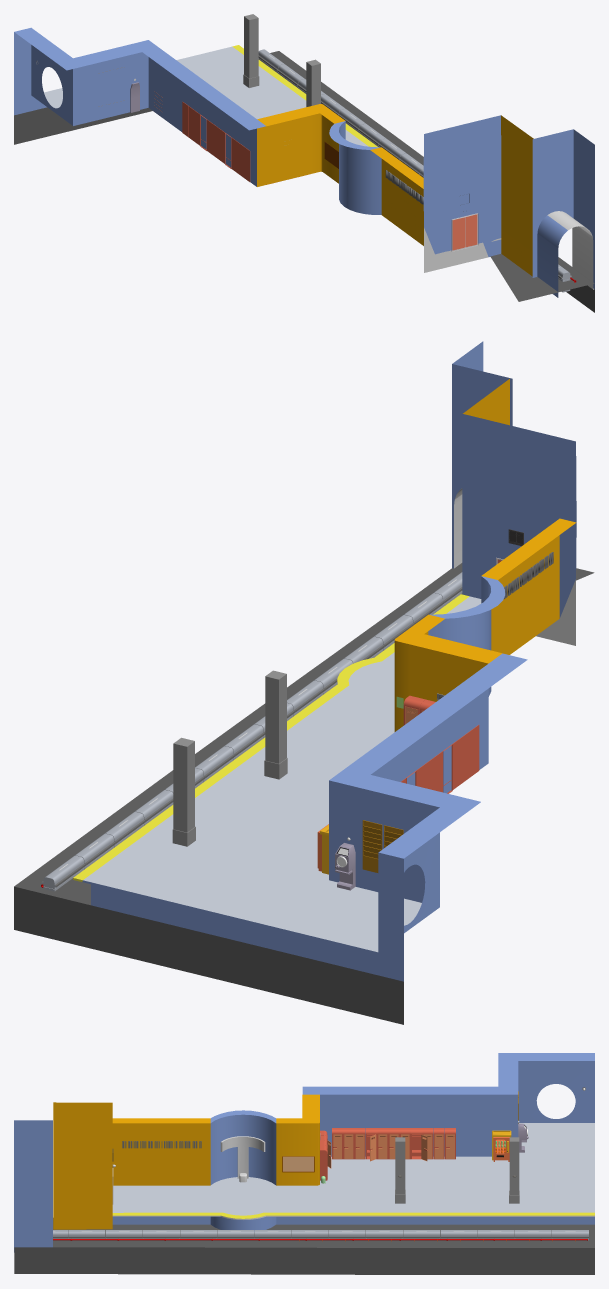
Rendered from OBSv2.5.fbx.
The picture shows the model from 3 angles, top to bottom: view 1: azimuth 30°, elevation 25°; view 2: azimuth 150°, elevation 25°; view 3: azimuth 270°, elevation 25°; orthographic projection. The views are drawn at different scales.
Parts seen in each view (by area): view 1: Cube.002, Cube.006, Cube.014, Cube.013, Cube.009, Cube; view 2: Cube.002, Cube.006, Cube.013, Cube.014, Cube.009, punchcard holder 1.001; view 3: Cube.002, Cube.006, Cube.014, Cube.009, Cube.013, Cylinder, decoration, Cube.005, Billboard, Text.001, Cube.008.
Boxes of the visible parts, x1,y1,x2,y2 form: Cube.002: (14, 27, 594, 312); Cube.006: (258, 49, 571, 292); Cube.014: (182, 101, 250, 181); Cube.013: (243, 14, 320, 106); Cube.009: (31, 45, 72, 125); Cube: (451, 213, 478, 251); Cube.002: (14, 341, 594, 1024); Cube.006: (41, 572, 462, 891); Cube.013: (172, 670, 287, 846); Cube.014: (401, 725, 479, 793); Cube.009: (404, 832, 439, 933); punchcard holder 1.001: (362, 820, 382, 872); Cube.002: (14, 1053, 594, 1274); Cube.006: (53, 1230, 588, 1240); Cube.014: (332, 1128, 455, 1161); Cube.009: (518, 1061, 594, 1122); Cube.013: (395, 1137, 519, 1203); Cylinder: (53, 1239, 587, 1240); decoration: (220, 1136, 265, 1178); Cube.005: (492, 1130, 511, 1161); Billboard: (282, 1156, 314, 1172); Text.001: (122, 1141, 201, 1148); Cube.008: (320, 1130, 331, 1180).
Bounding box in the file's own units: 1323 × 803 × 2746.
